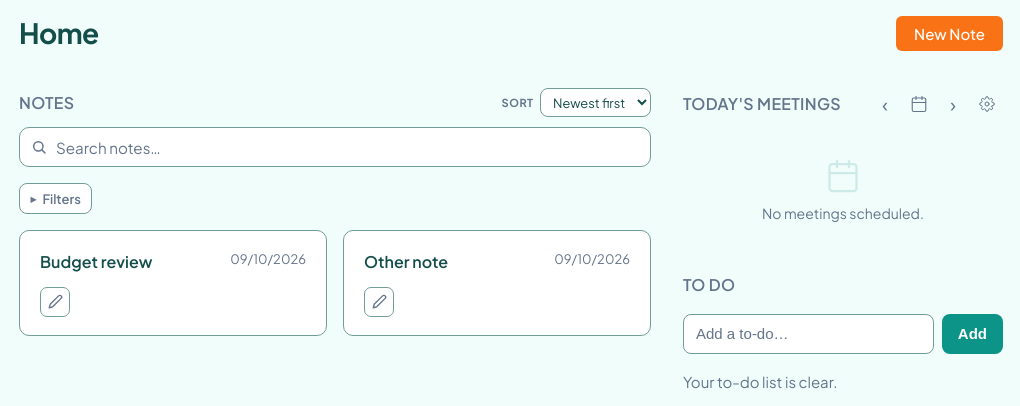
Home search bar (22-B) › clearing the box restores the prior view
Type "budget" into the search field labelled "Search notes…".
click(335, 147); type("budget")  # box [19,127,651,167]
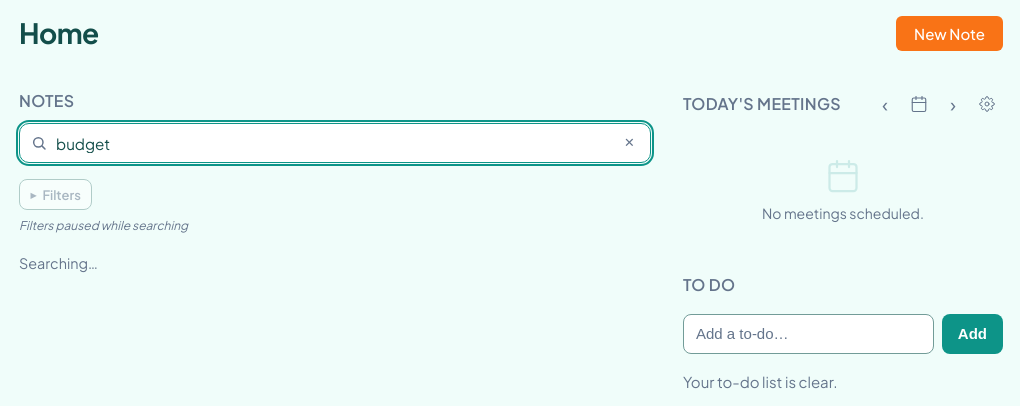
Now the heading "Other note" is gone
Click the button named "clear search".
click(629, 143)  # box [617,131,641,155]
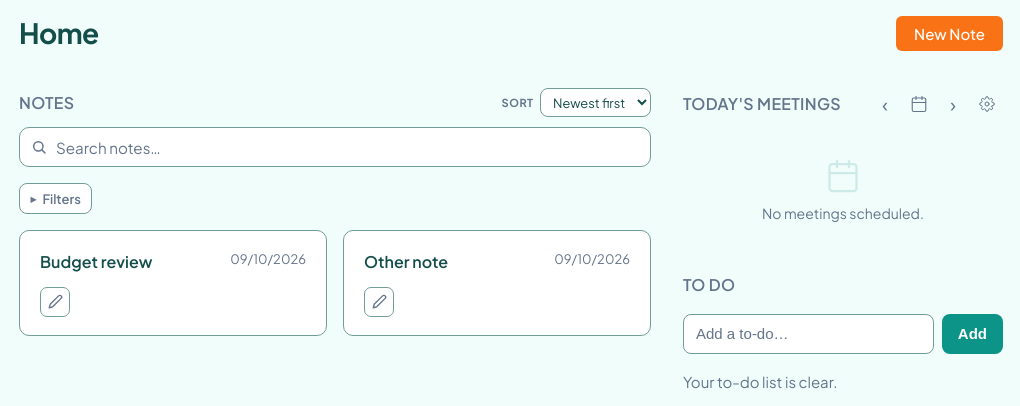
Now the heading "Other note" is shown, box [364,251,448,272]
Now the heading "Budget review" is shown, box [40,251,152,272]
